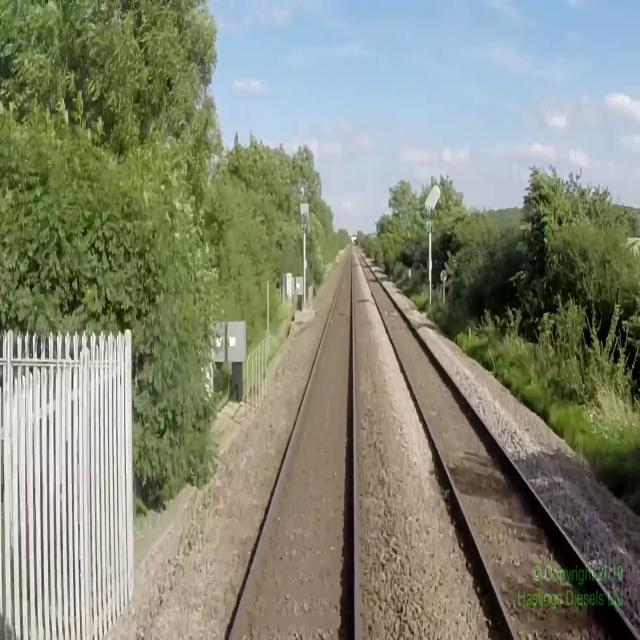rail-track: (355, 247, 637, 639), (232, 245, 352, 639)
